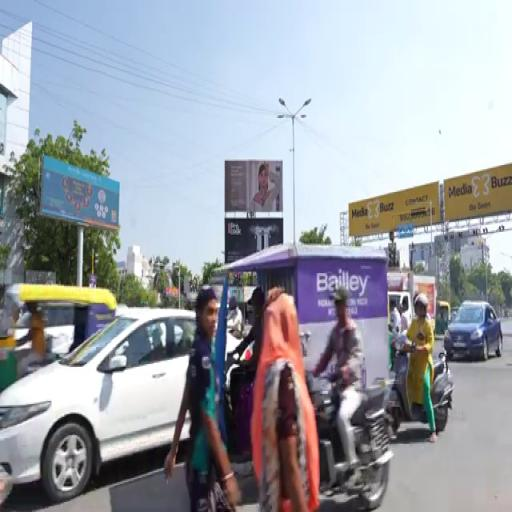Car: (0, 309, 195, 503), (444, 302, 503, 359), (42, 303, 74, 354)
